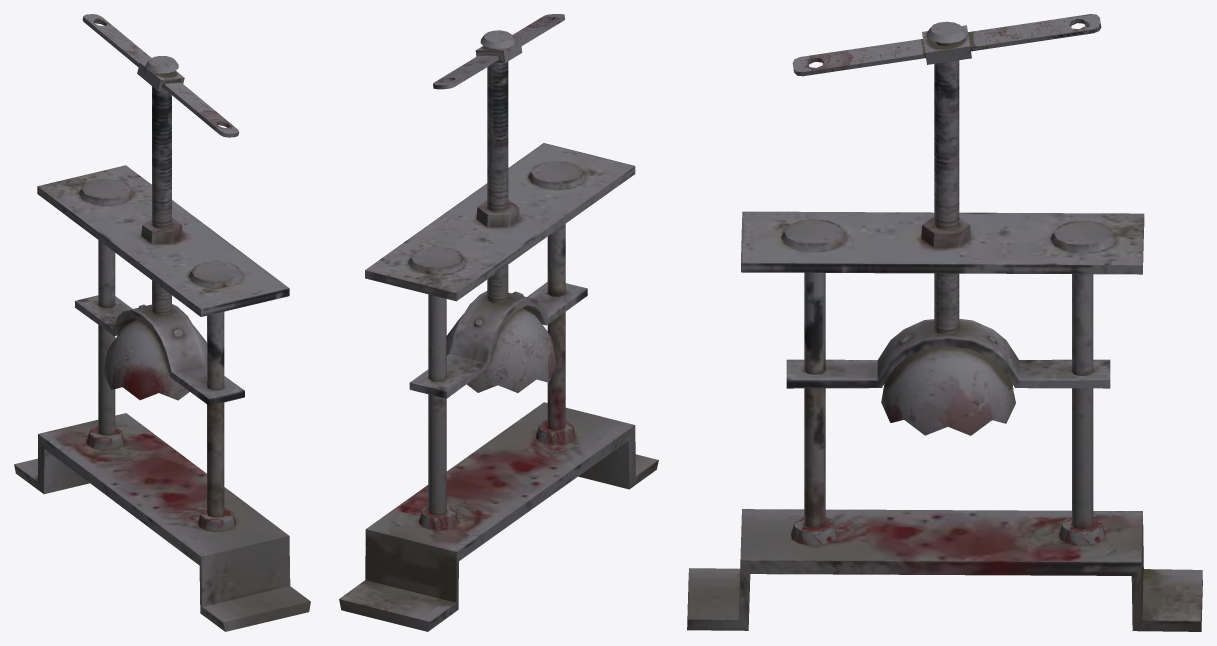
Rendered from x_tortura_head_crusher.glb.
The picture shows the model from 3 angles, left to right: view 1: azimuth 30°, elevation 25°; view 2: azimuth 150°, elevation 25°; view 3: azimuth 270°, elevation 25°; orthographic projection. The views are drawn at different scales.
Parts seen in each view (by area): view 1: press_01_low__0; view 2: press_01_low__0; view 3: press_01_low__0.
Boxes of the visible parts, bbox=[...] form: press_01_low__0: bbox=[14, 14, 310, 631]; press_01_low__0: bbox=[339, 14, 658, 631]; press_01_low__0: bbox=[687, 14, 1202, 631].
Bounding box in the file's own units: 0.3368 × 1.6 × 1.28.
1 material, 1 textured.
